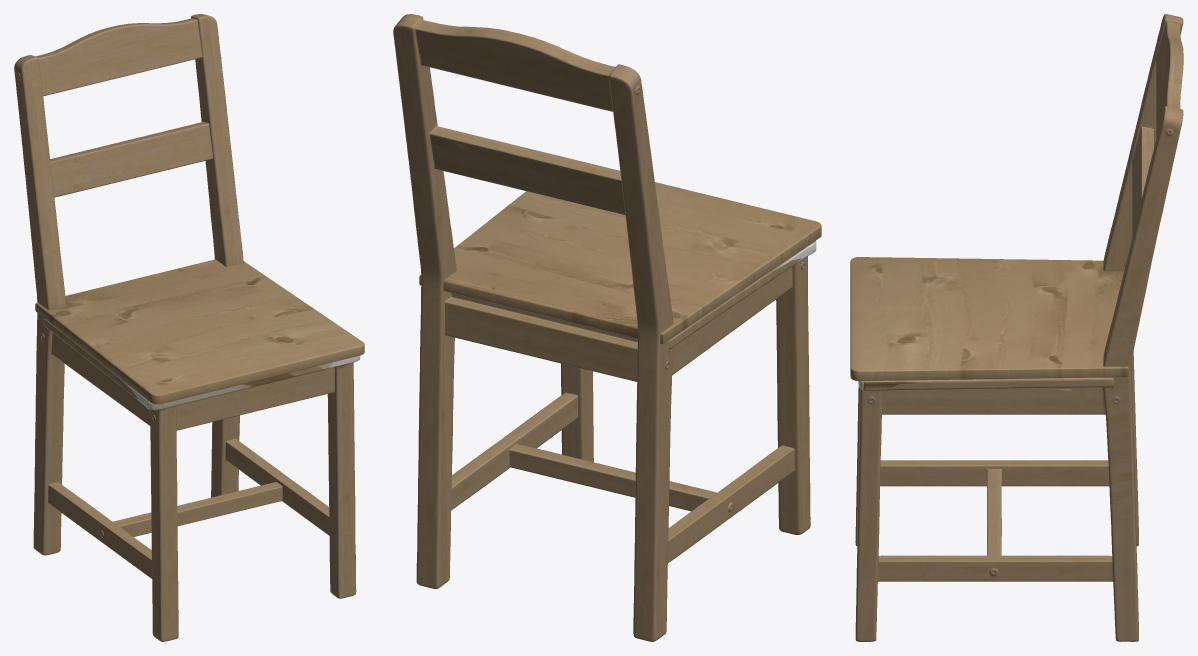
3 renders of one model, left to right at view 1: azimuth 30°, elevation 25°; view 2: azimuth 150°, elevation 25°; view 3: azimuth 270°, elevation 25°, orthographic. The views are drawn at different scales.
Parts seen in each view (by area): view 1: node_0, dsa; view 2: node_0, dsa; view 3: node_0, dsa.
Part boxes in pixels (bbox=[...]): node_0: bbox=[14, 14, 356, 641]; dsa: bbox=[35, 259, 364, 410]; node_0: bbox=[393, 14, 810, 641]; dsa: bbox=[419, 182, 821, 344]; node_0: bbox=[855, 14, 1183, 641]; dsa: bbox=[850, 257, 1128, 390].
Bounding box in the file's own units: 0.3992 × 0.8717 × 0.4907.
Materials: 3 (2 with a texture image).
